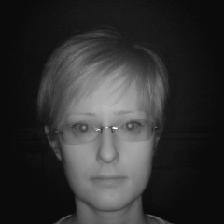normal: (32, 31, 176, 209)
